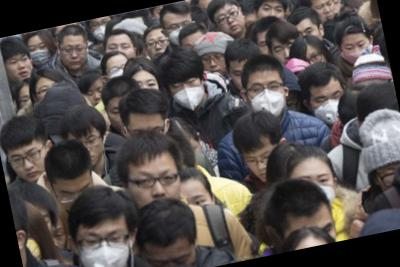with_mask: (76, 221, 139, 267), (244, 76, 291, 124), (292, 168, 339, 214), (308, 85, 351, 129), (167, 75, 209, 116), (163, 17, 197, 49), (341, 36, 374, 68), (88, 16, 115, 44), (27, 40, 53, 69)
without_mask: (122, 160, 185, 213), (5, 143, 49, 187), (50, 180, 98, 217), (241, 146, 284, 187), (104, 96, 147, 136), (68, 131, 108, 171), (213, 4, 249, 40), (57, 38, 90, 72), (3, 52, 35, 83), (200, 50, 230, 82), (143, 33, 173, 62), (270, 39, 299, 68), (104, 39, 137, 64), (256, 0, 287, 26), (86, 84, 107, 108)
